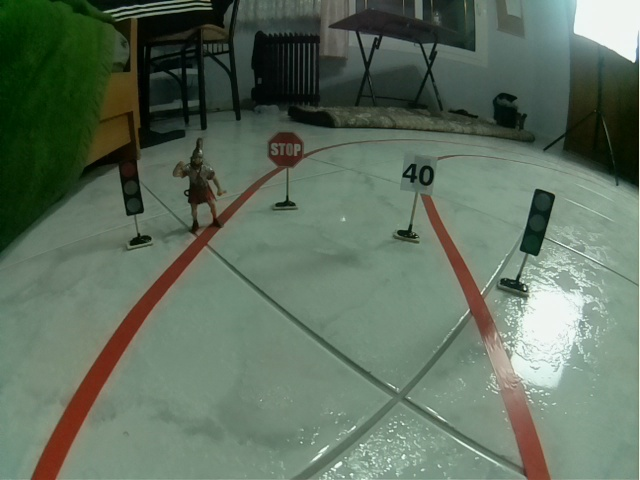Green Traffic Light: (519, 188, 555, 257)
Person: (172, 137, 225, 233)
Red Traffic Light: (117, 158, 144, 216)
Speed Limit 40: (400, 151, 438, 197)
Stop: (267, 131, 305, 169)
